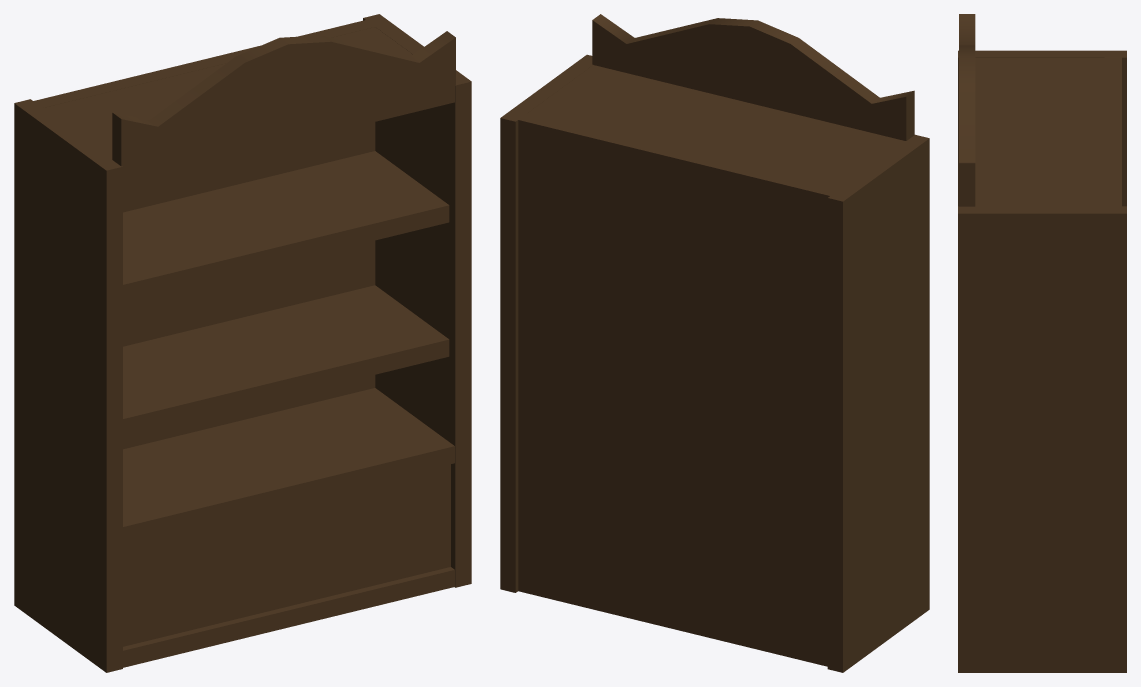
Rendered from bookshelf.fbx.
3 views of the same model, side by side, from view 1: azimuth 30°, elevation 25°; view 2: azimuth 150°, elevation 25°; view 3: azimuth 270°, elevation 25° (orthographic). The views are drawn at different scales.
Visible parts, largest first — view 1: pCube11; view 2: pCube11; view 3: pCube11.
Part boxes in pixels (<box>): pCube11: <box>14,14,471,672</box>; pCube11: <box>500,14,929,672</box>; pCube11: <box>958,14,1126,672</box>.
Size of the model in its own units: 1.12 by 1.7 by 0.4885.
